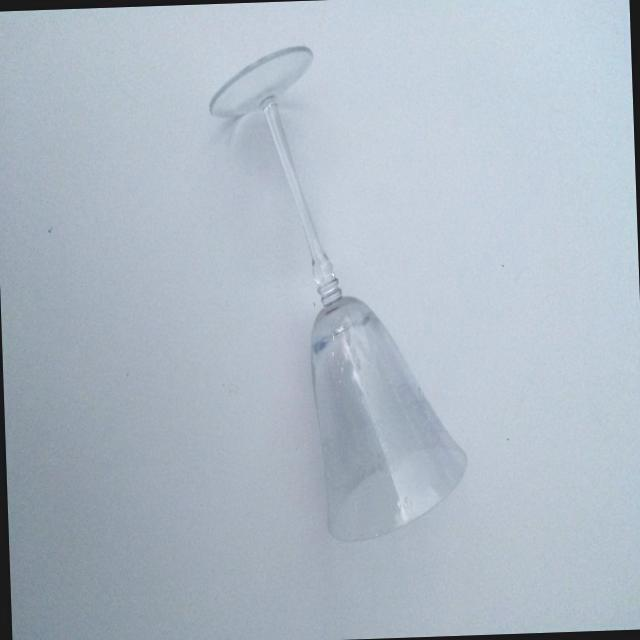glass: (191, 33, 483, 560)
